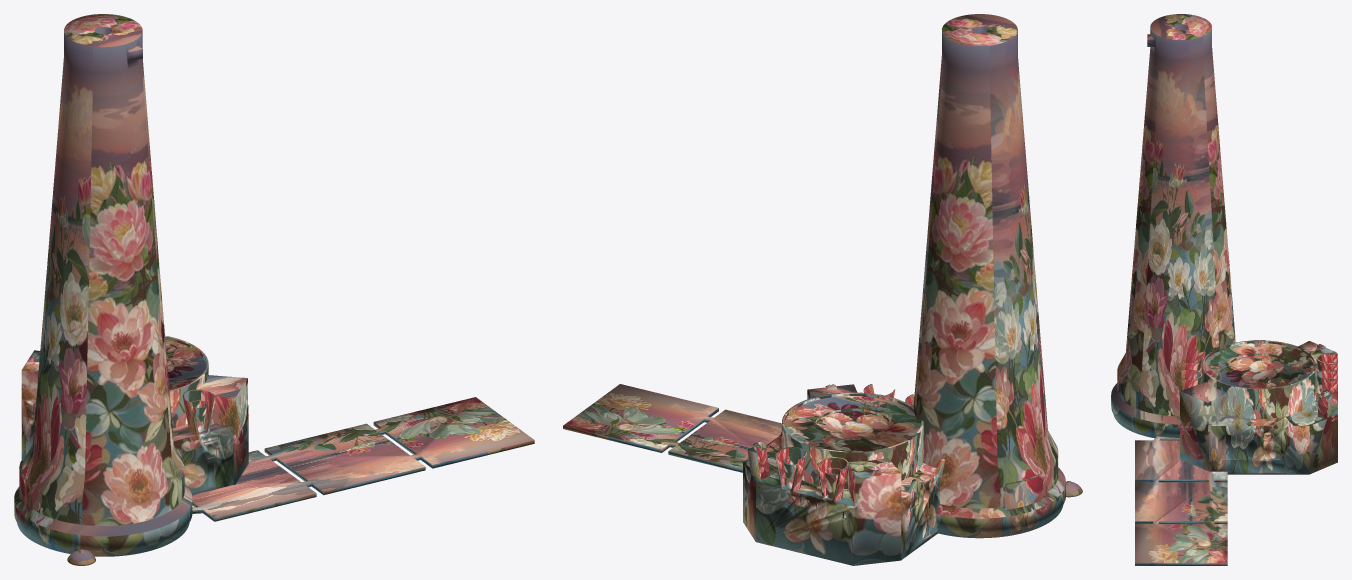
Rendered from nasa_chandra-x-ray-observatory-2.glb.
3 renders of one model, left to right at view 1: azimuth 30°, elevation 25°; view 2: azimuth 150°, elevation 25°; view 3: azimuth 270°, elevation 25°, orthographic. The views are drawn at different scales.
Parts seen in each view (by area): view 1: A; view 2: A; view 3: A.
Boxes of the visible parts, <box> form: A: <box>14,14,534,565</box>; A: <box>563,14,1082,565</box>; A: <box>1111,14,1337,565</box>.
Size of the model in its own units: 2 by 1.95 by 1.04.
1 material, 1 textured.
